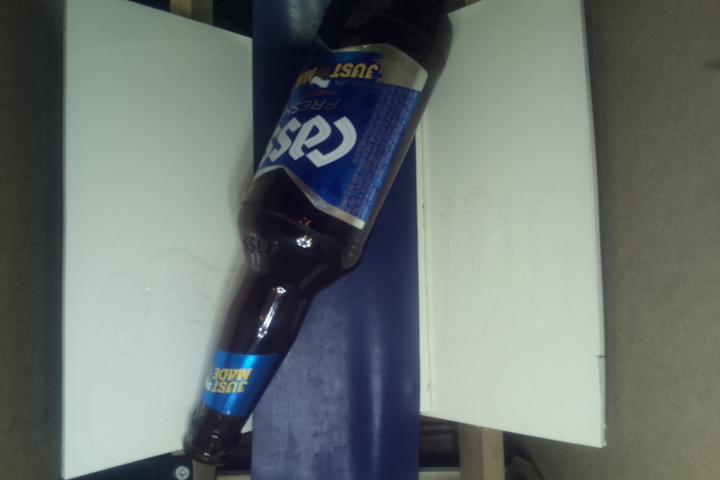makju: (180, 1, 456, 465)
